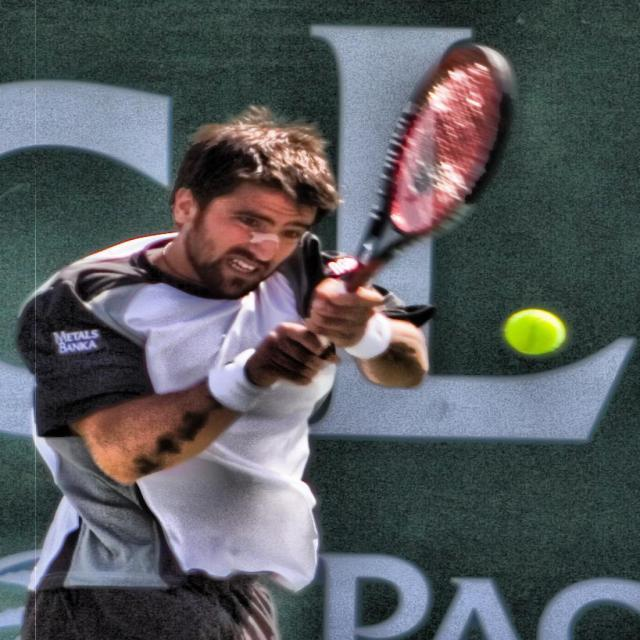tennis-ball: (505, 306, 563, 360)
